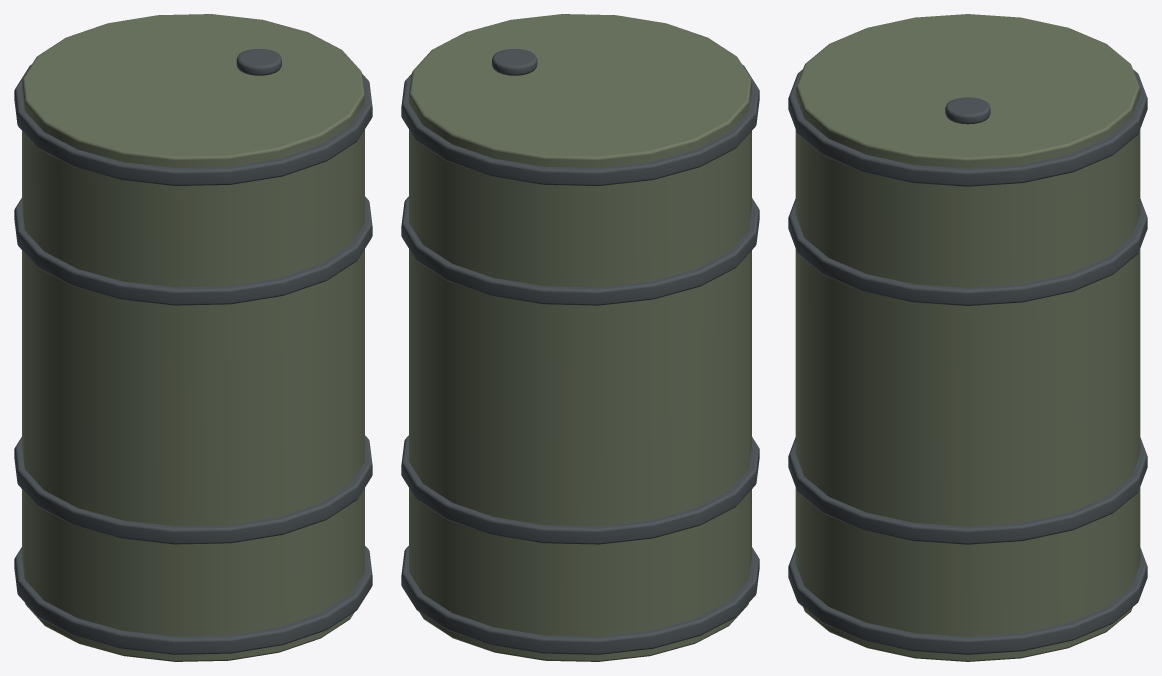
Rendered from barrel.glb.
The picture shows the model from 3 angles, left to right: view 1: azimuth 30°, elevation 25°; view 2: azimuth 150°, elevation 25°; view 3: azimuth 270°, elevation 25°; orthographic projection.
Visible parts, largest first — view 1: drum, drum_ring.003, drum_ring.001, drum_ring.002, drum_ring, cap; view 2: drum, drum_ring.003, drum_ring.001, drum_ring.002, drum_ring, cap; view 3: drum, drum_ring.003, drum_ring, drum_ring.002, drum_ring.001, cap.
Part boxes in pixels (left/top/right/bottom): drum: left=22, top=14, right=364, bottom=661; drum_ring.003: left=14, top=64, right=372, bottom=185; drum_ring.001: left=14, top=435, right=372, bottom=544; drum_ring.002: left=14, top=196, right=372, bottom=305; drum_ring: left=14, top=546, right=372, bottom=654; cap: left=236, top=49, right=281, bottom=75; drum: left=409, top=14, right=751, bottom=661; drum_ring.003: left=401, top=64, right=759, bottom=185; drum_ring.001: left=401, top=435, right=759, bottom=544; drum_ring.002: left=401, top=196, right=759, bottom=305; drum_ring: left=401, top=546, right=759, bottom=654; cap: left=492, top=49, right=537, bottom=75; drum: left=795, top=14, right=1140, bottom=661; drum_ring.003: left=788, top=69, right=1147, bottom=186; drum_ring: left=788, top=547, right=1147, bottom=654; drum_ring.002: left=788, top=199, right=1147, bottom=305; drum_ring.001: left=788, top=437, right=1147, bottom=544; cap: left=945, top=97, right=990, bottom=124.
Bounding box in the file's own units: 0.71 × 1.13 × 0.71.
